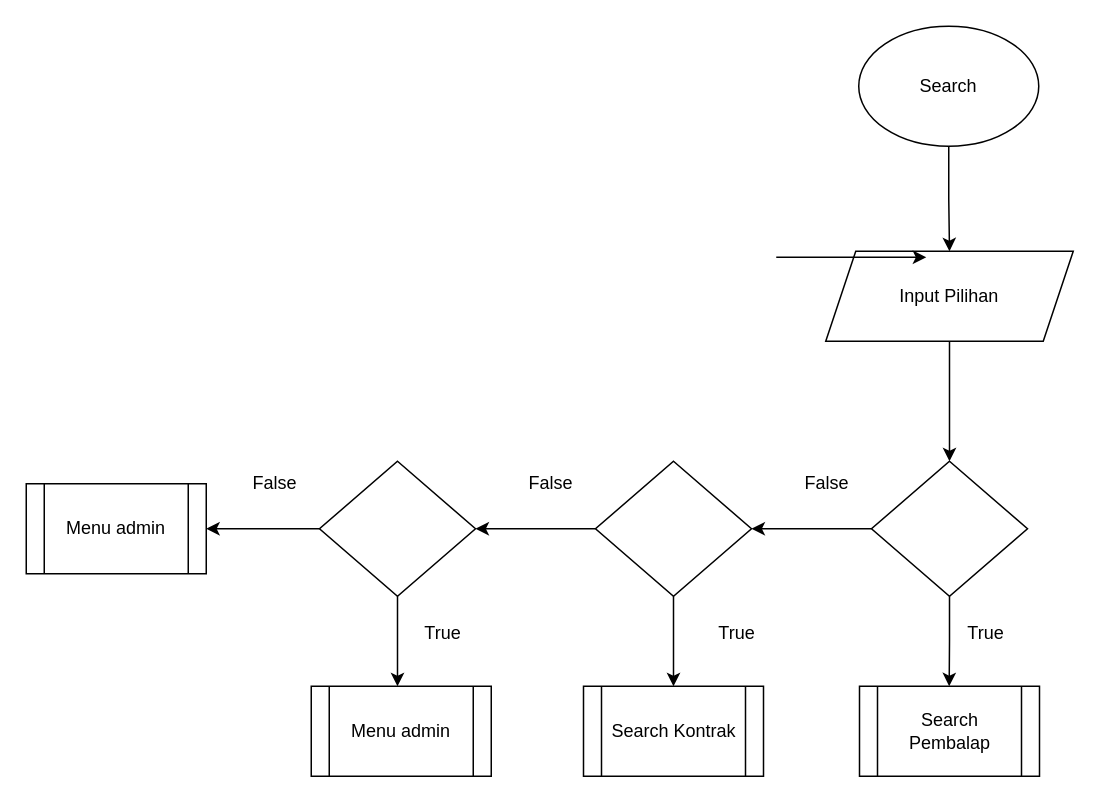
Image size: 1100x803. Some labels were removed from this diagram. Each missing label, with the centre of its shape:
"pilihan == 1" goes at point (949, 528).
"pilihan == 2" goes at point (673, 528).
"pilihan == 3" goes at point (397, 528).
